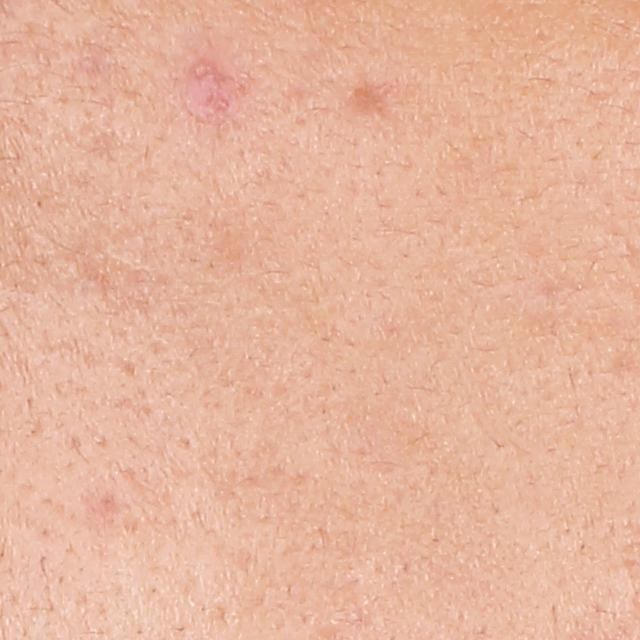atrophic_scar: (339, 72, 404, 126)
papule: (168, 53, 236, 123)
